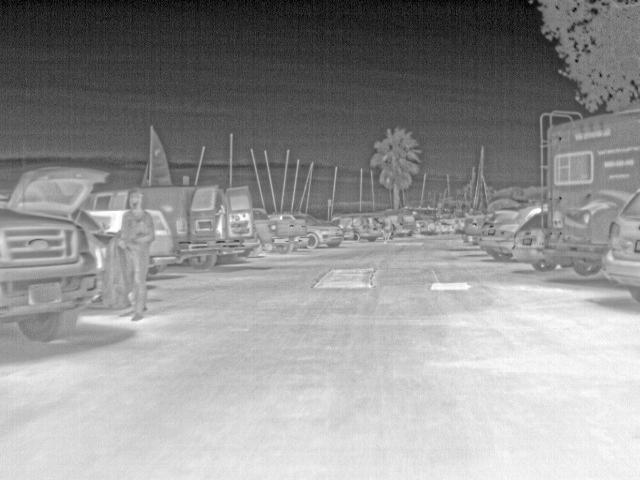car: (85, 187, 254, 271), (1, 207, 103, 344), (1, 164, 114, 270), (599, 187, 640, 300), (479, 206, 546, 264), (269, 211, 348, 247), (252, 206, 304, 253), (511, 210, 548, 272), (149, 210, 173, 281), (331, 213, 382, 242), (464, 214, 491, 242), (397, 211, 419, 237), (435, 216, 456, 232), (419, 220, 435, 236)
person: (117, 186, 155, 322), (381, 210, 396, 242)
